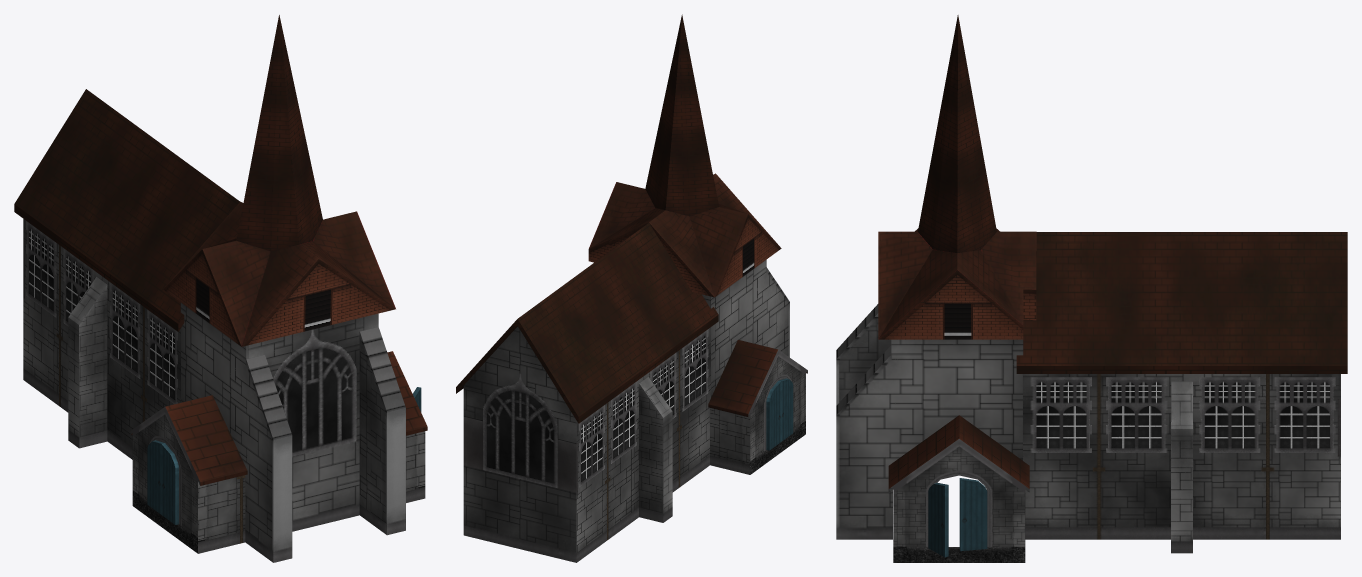
Rendered from Inside texture.fbx.
3 renders of one model, left to right at view 1: azimuth 30°, elevation 25°; view 2: azimuth 150°, elevation 25°; view 3: azimuth 270°, elevation 25°, orthographic. The views are drawn at different scales.
Visible parts, largest first — view 1: Interior v2; view 2: Interior v2; view 3: Interior v2.
Part boxes in pixels (bbox=[...]): Interior v2: bbox=[14, 15, 427, 562]; Interior v2: bbox=[456, 14, 807, 562]; Interior v2: bbox=[836, 15, 1347, 562].
Size of the model in its own units: 26.75 by 49.47 by 46.49.
